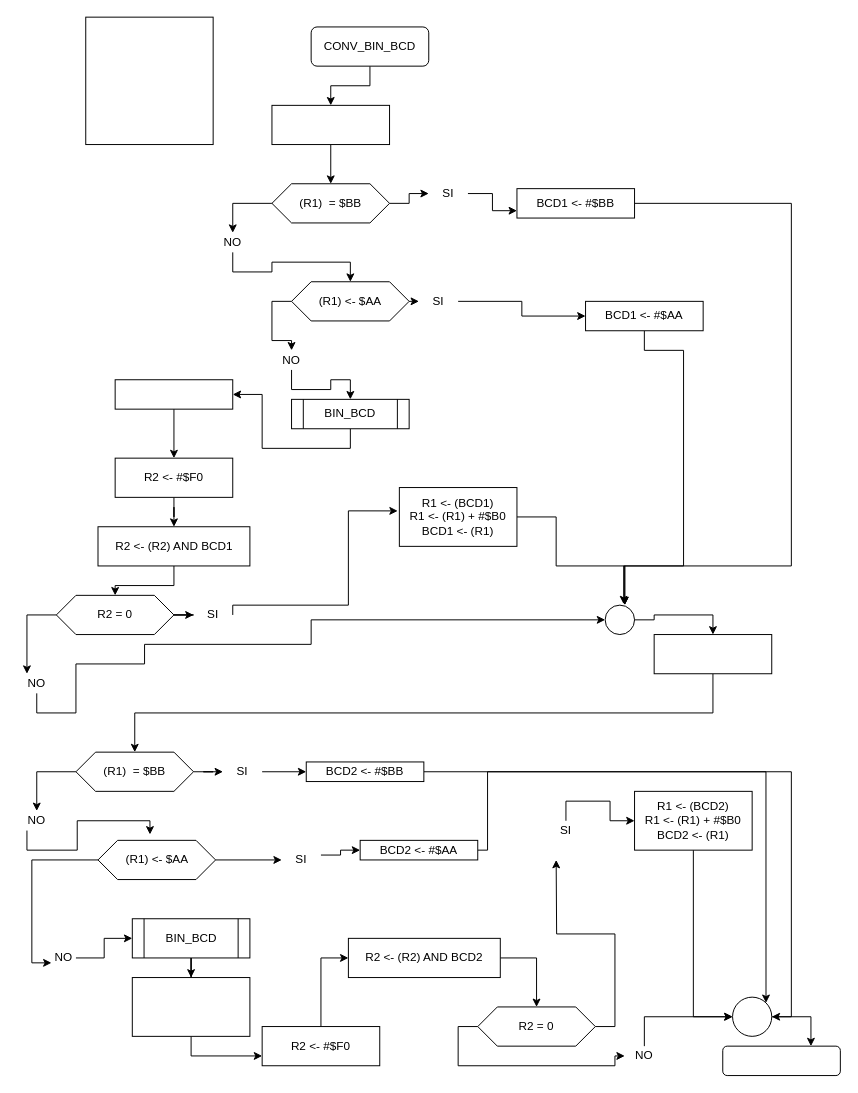
Image size: 858x1093. Some labels were removed from this diagram. Each missing label, with the box of its shape:
BCD1 <- (BCD_L): (114, 379, 233, 409)
BCD2 <- (BCD_L): (131, 977, 250, 1036)
C - carry K. - Y J - X R1 - A R2 - B RR1 - D: (85, 16, 213, 145)
R1 <- (BIN1): (271, 104, 390, 145)
R1 <- (BIN2): (653, 634, 772, 674)
RETURN: (722, 1045, 840, 1076)
